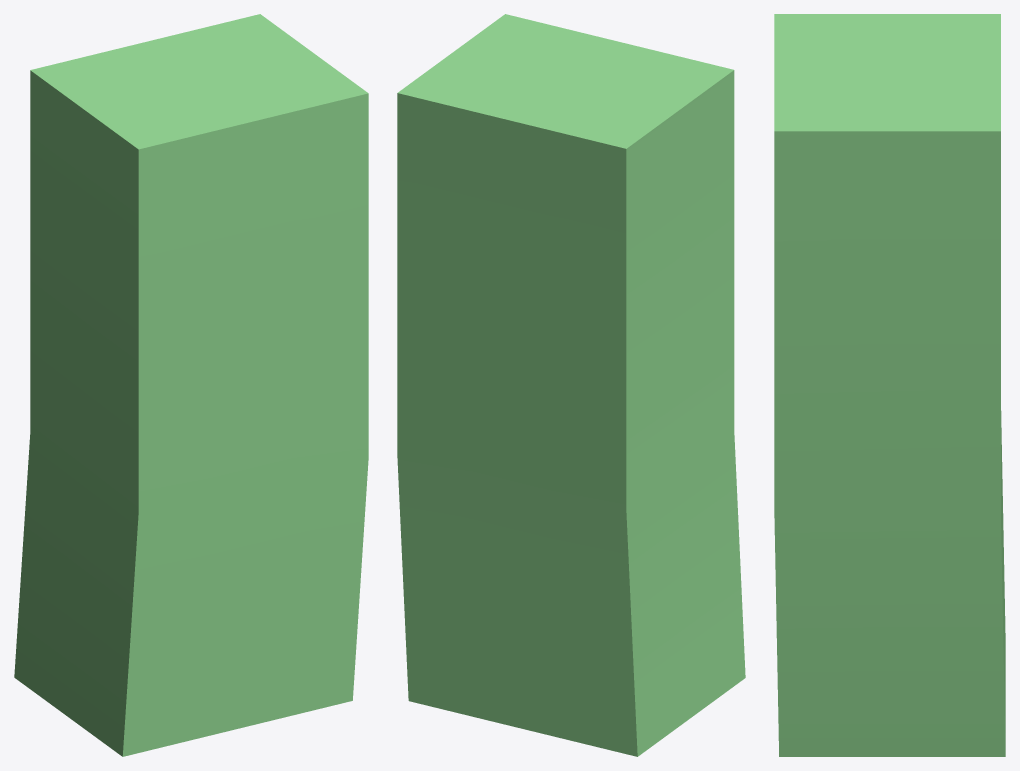
File: Basic_Lower_Arm.FBX
The picture shows the model from 3 angles, left to right: view 1: azimuth 30°, elevation 25°; view 2: azimuth 150°, elevation 25°; view 3: azimuth 270°, elevation 25°; orthographic projection. The views are drawn at different scales.
Visible parts, largest first — view 1: Box004; view 2: Box004; view 3: Box004.
Boxes of the visible parts, left/top/right/bottom form: Box004: left=14, top=14, right=368, bottom=756; Box004: left=397, top=14, right=745, bottom=756; Box004: left=774, top=14, right=1005, bottom=756.
Size of the model in its own units: 4.68 by 11.12 by 3.68.
